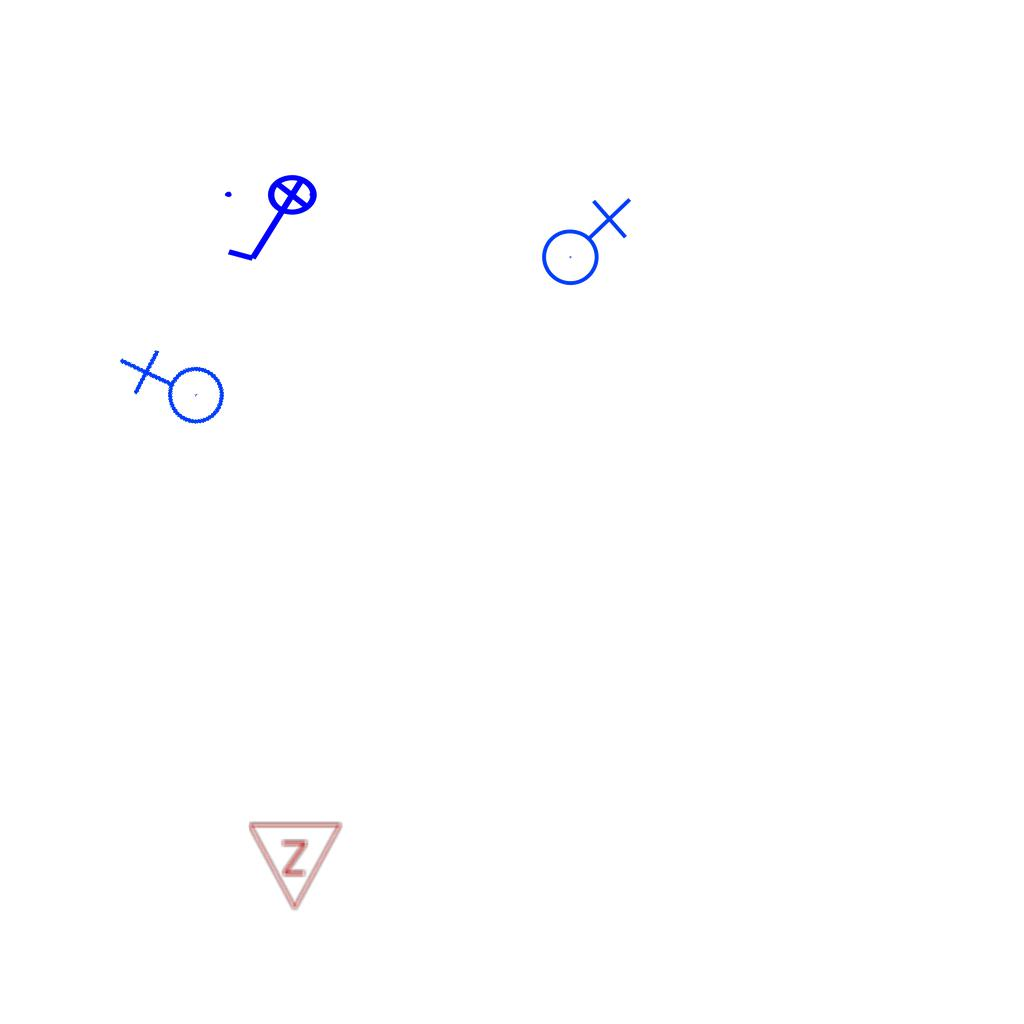Ausschalter_beleuchtet: (219, 173, 331, 269)
Elektroanschluss_allgemein_230V_Geraeteanschlussdose_230V: (113, 326, 238, 454), (533, 193, 632, 287)
Zimmersignalleuchte: (247, 816, 345, 916)
